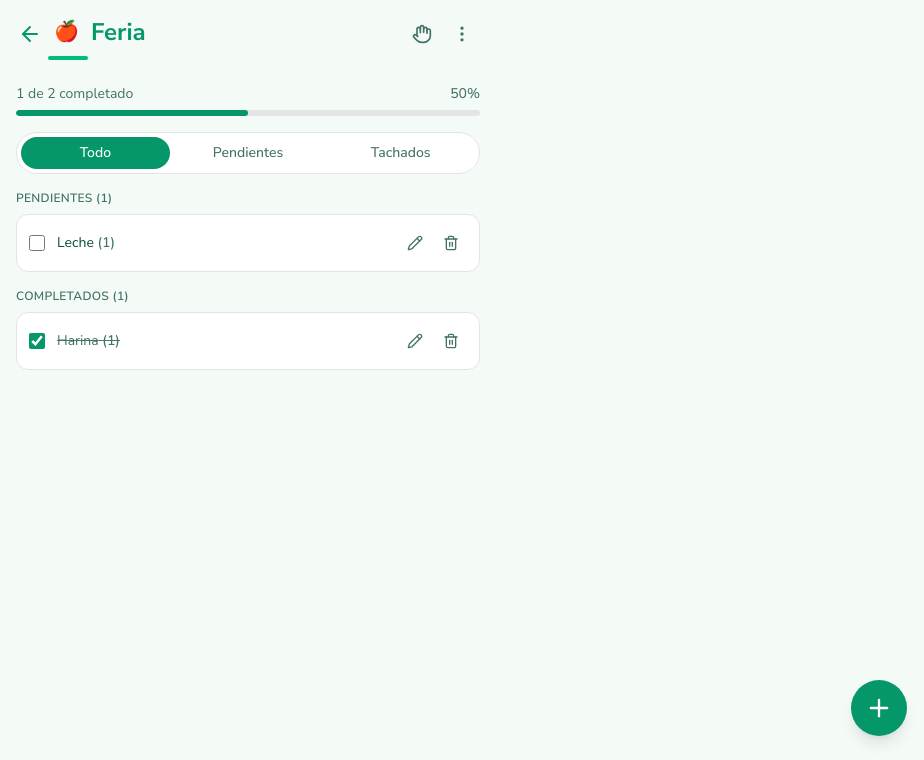
Test: ListDetailPage (smoke) › los chips filtran la lista renderizada
Expected: the heading "Feria" is shown, [91,16,146,48]
Expected: the text "Leche" is shown, [57,233,94,252]
Step 1. Click the button "Pendientes" → (248, 153), box [174,137,322,169]
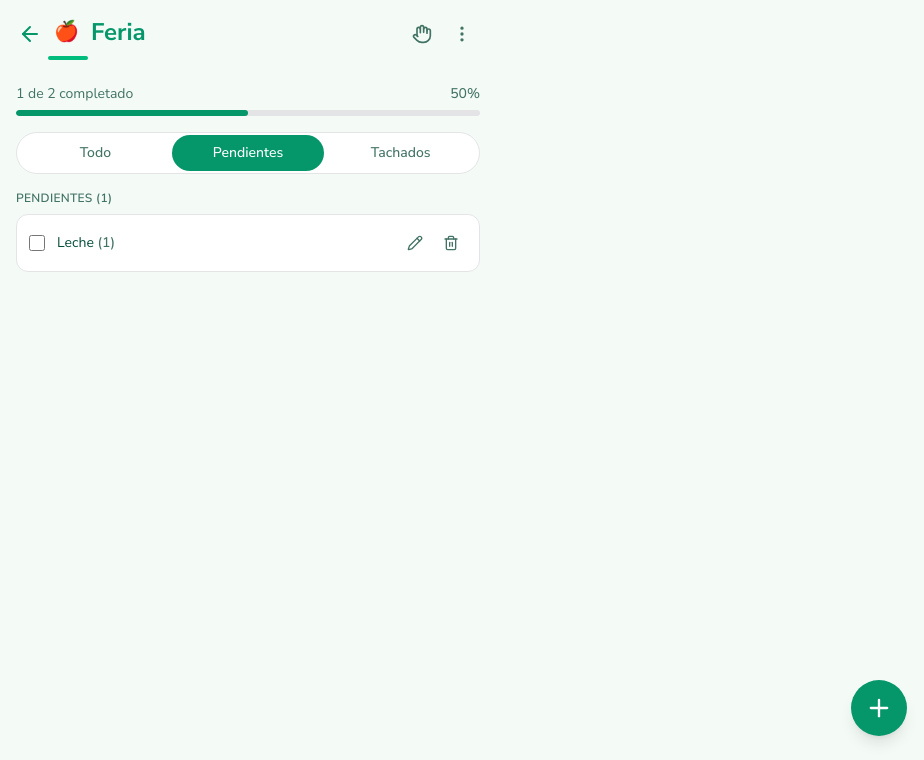
Expected: the text "Leche" is shown, [57,233,94,252]
Expected: the text "Harina" is gone
Step 2. Click the button "Tachados" → (401, 153), box [326,137,475,169]
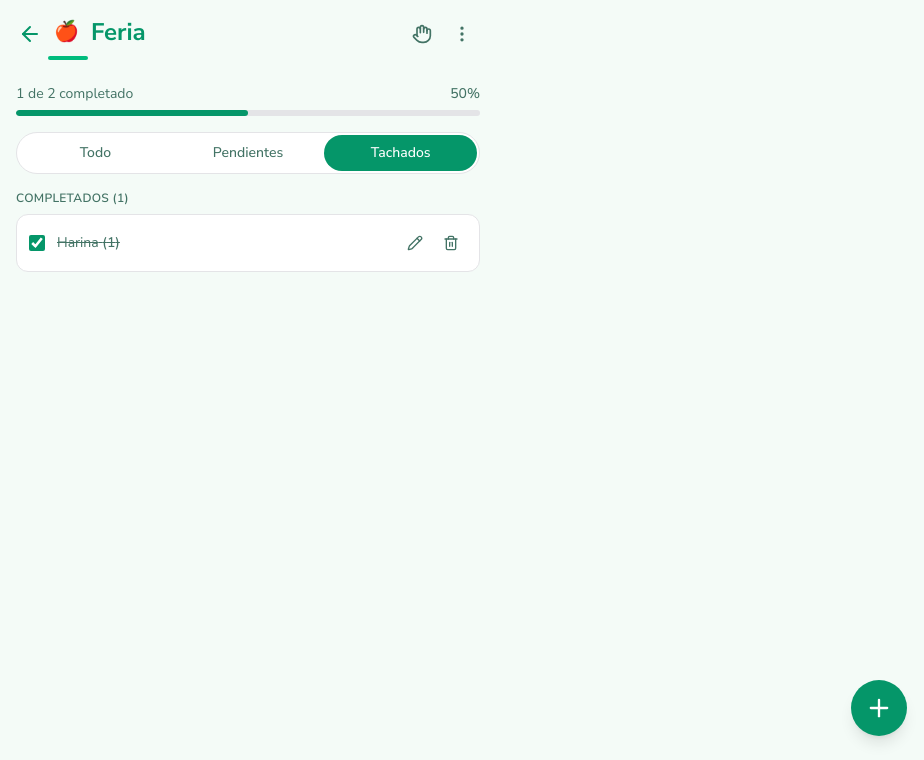
Expected: the text "Leche" is gone
Expected: the text "Harina" is shown, [57,233,99,252]
Step 3. Click the button "Todo" → (95, 153), box [21,137,170,169]
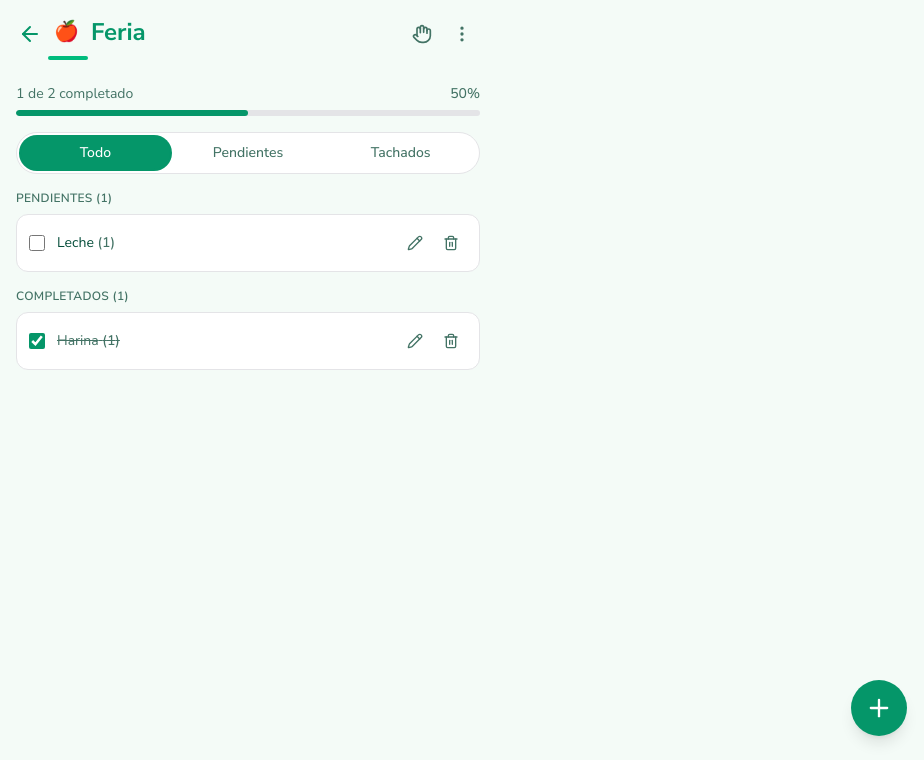
Expected: the text "Harina" is shown, [57,331,99,350]
Expected: the text "Leche" is shown, [57,233,94,252]
